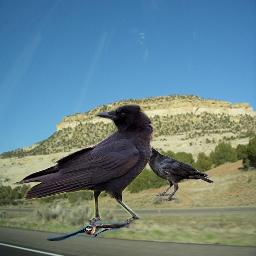Crow: (11, 104, 155, 228), (139, 147, 214, 201)
Swallow: (46, 219, 130, 241)
